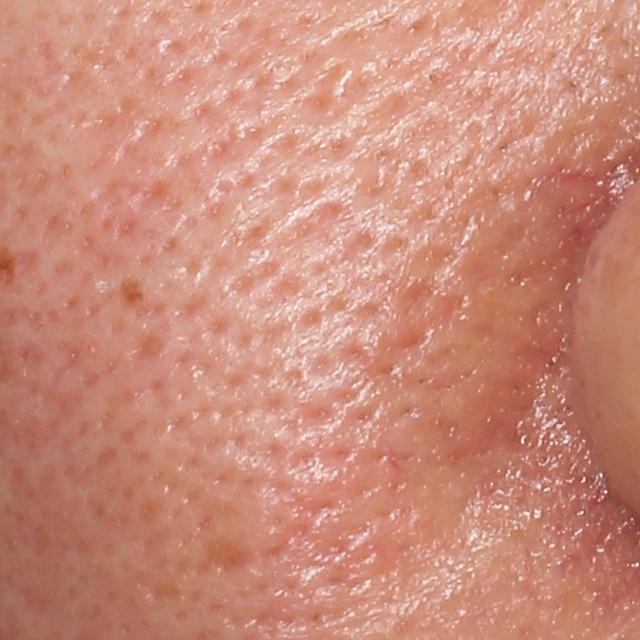atrophic_scar: (132, 331, 165, 365)
